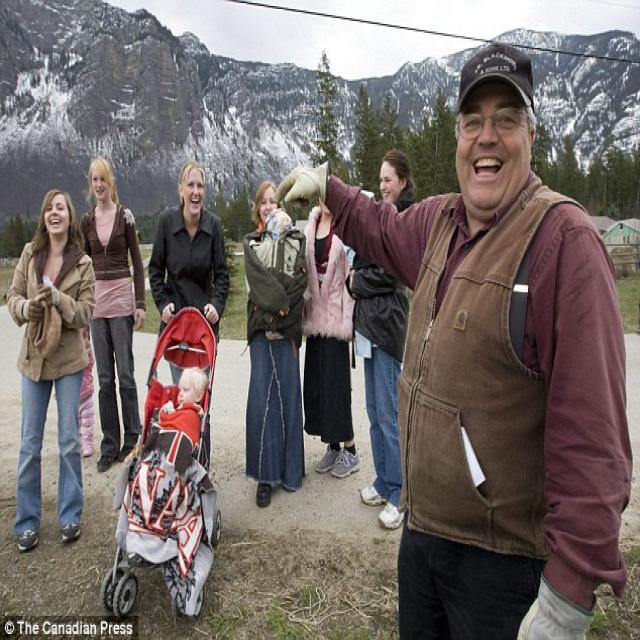body: (270, 36, 636, 638), (4, 185, 98, 554), (342, 144, 421, 533), (146, 157, 232, 477), (238, 177, 309, 509), (78, 154, 147, 471), (301, 166, 361, 481), (242, 207, 306, 345), (156, 366, 210, 457), (342, 184, 377, 276), (76, 333, 98, 457)
